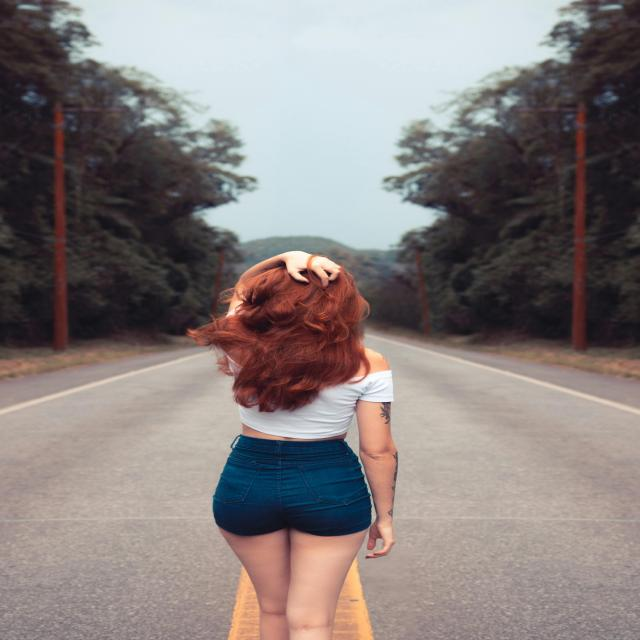stand: (180, 232, 414, 640)
